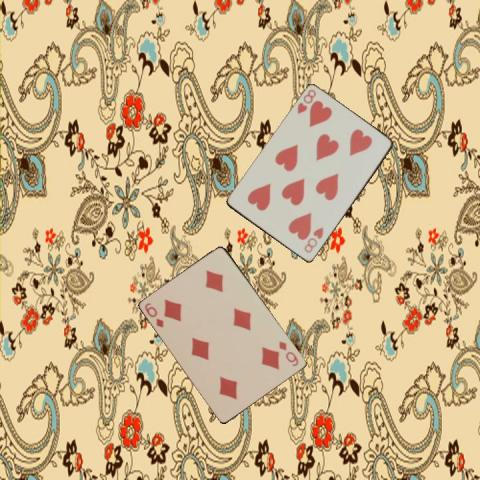6d: (276, 338, 300, 368), (142, 300, 165, 329)
8h: (301, 224, 325, 255), (294, 87, 317, 115)
